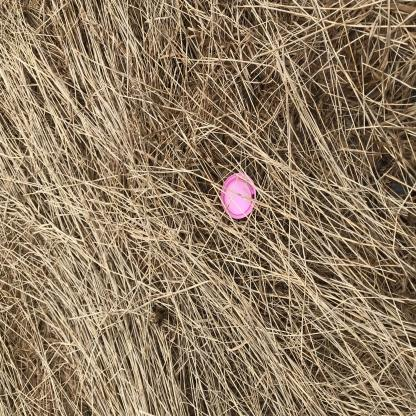trash: (143, 283, 187, 352)
